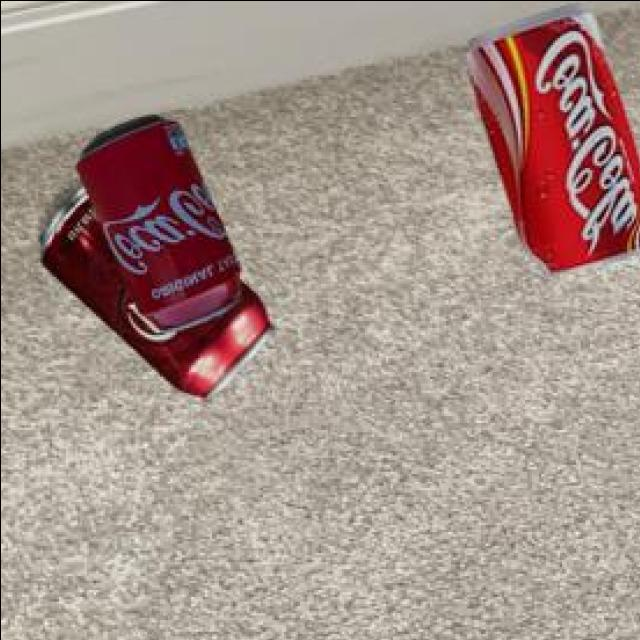logam: (43, 184, 277, 398), (470, 1, 640, 270), (80, 112, 242, 328)
